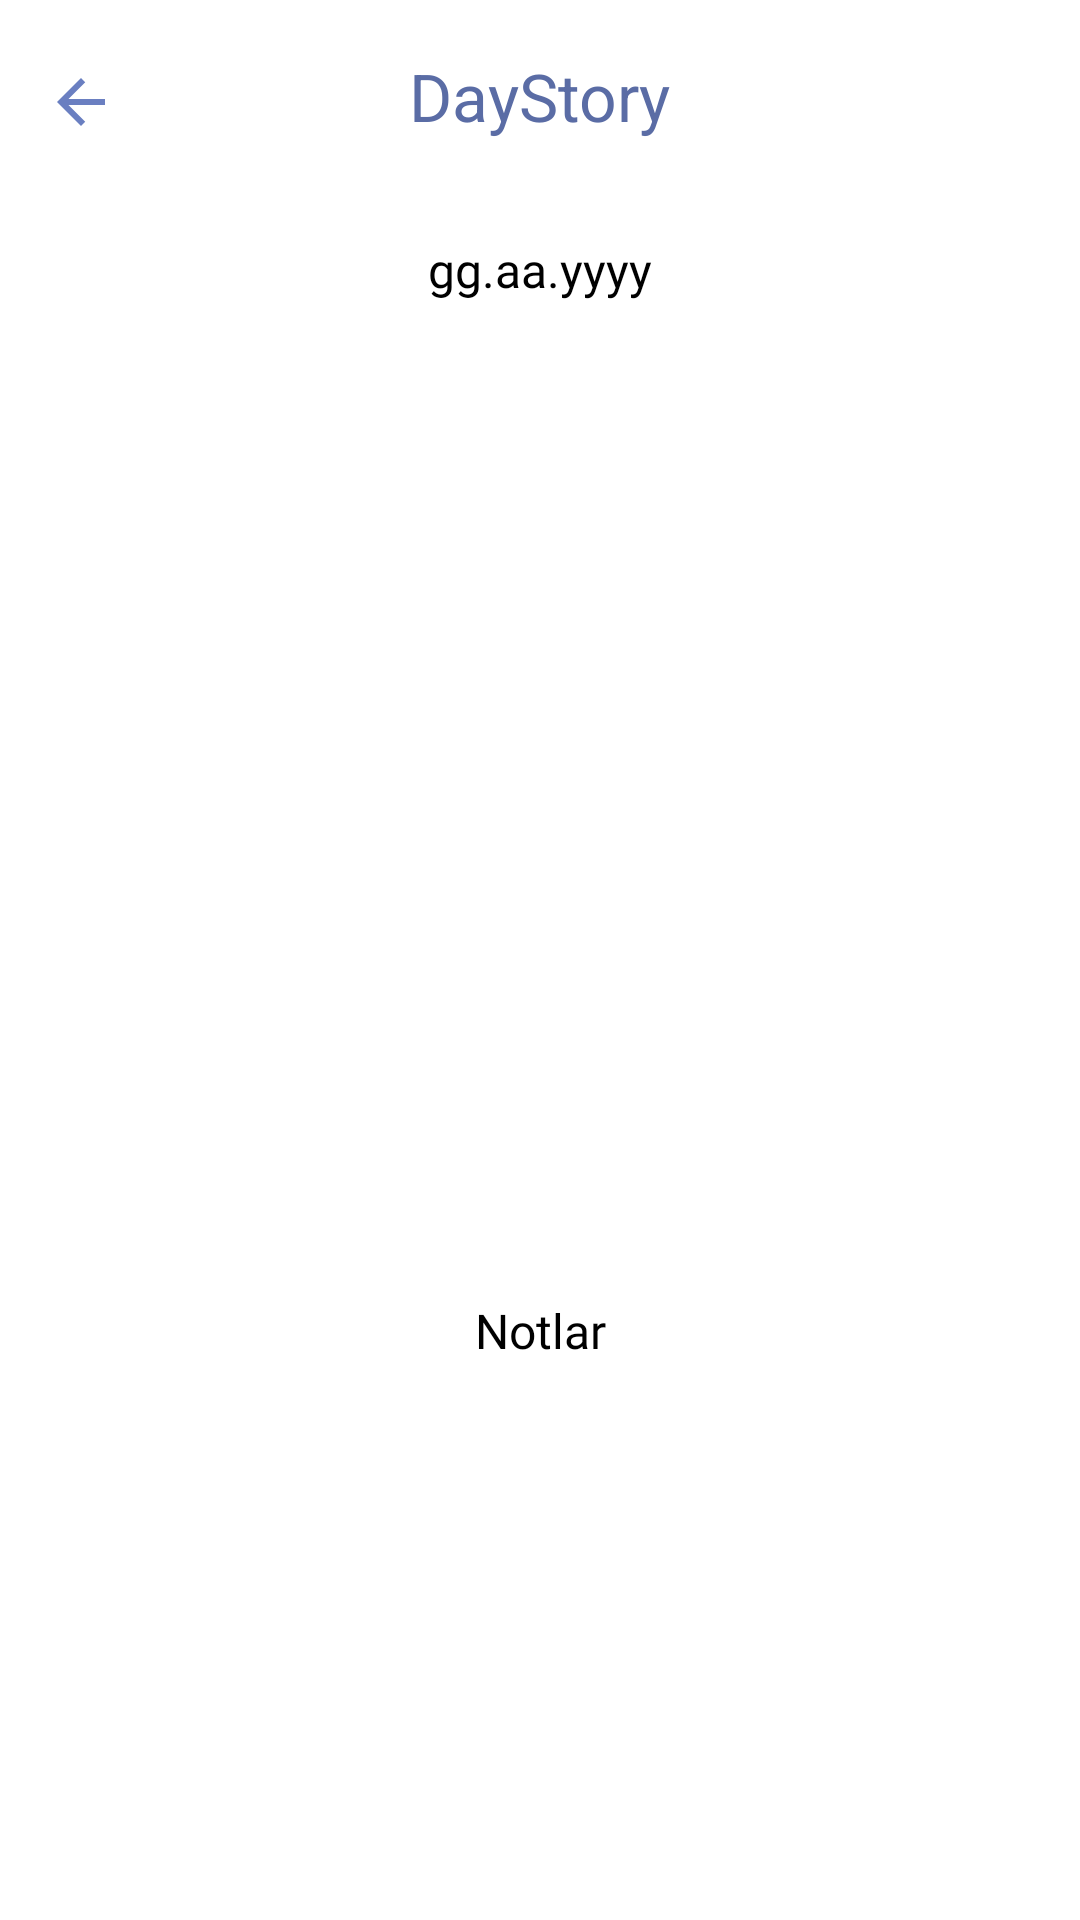

Icon click points for this 1080x1920 phone screenshot, format (x=x, y=y):
back: (x=81, y=102)
